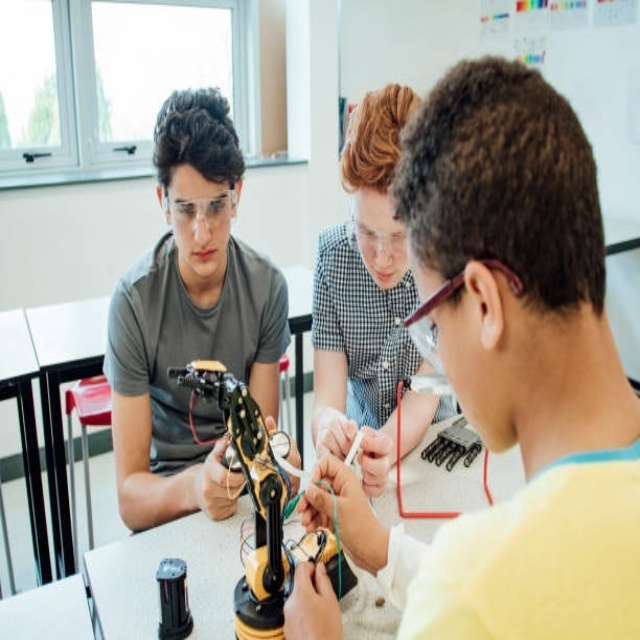Gafas: (401, 271, 463, 380), (161, 179, 236, 224), (353, 202, 406, 256)
Sin_guantes: (293, 451, 377, 570), (282, 559, 344, 640), (199, 430, 250, 519), (354, 423, 397, 496)
Sin_mascara: (184, 245, 219, 278), (370, 262, 393, 293)
